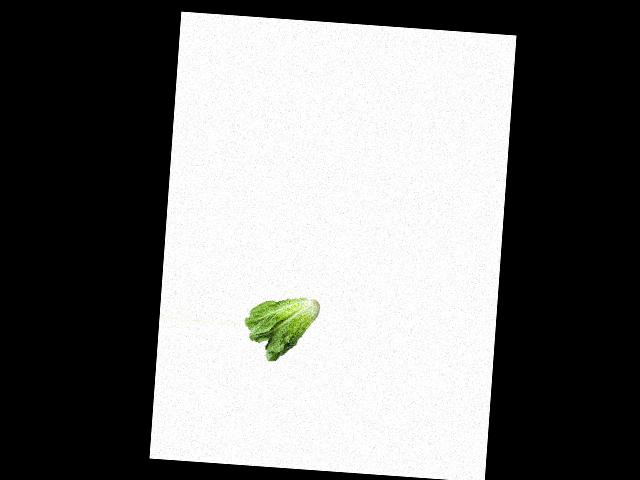lettuce: (240, 291, 320, 366)
